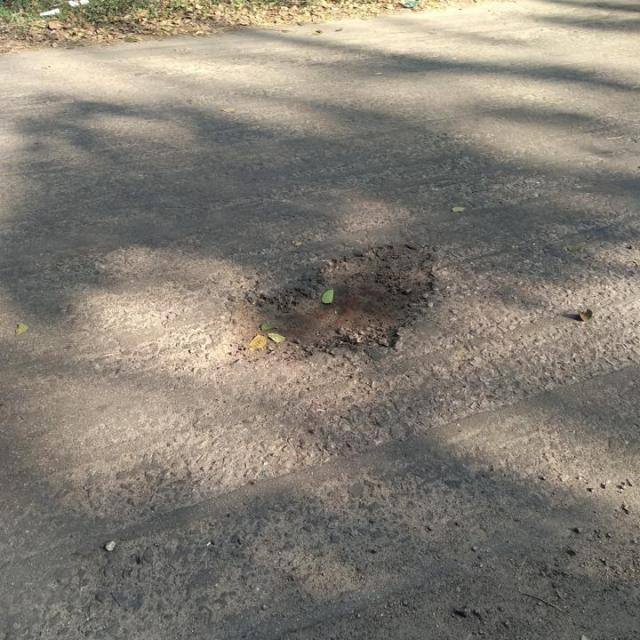pothole: (223, 239, 444, 367)
